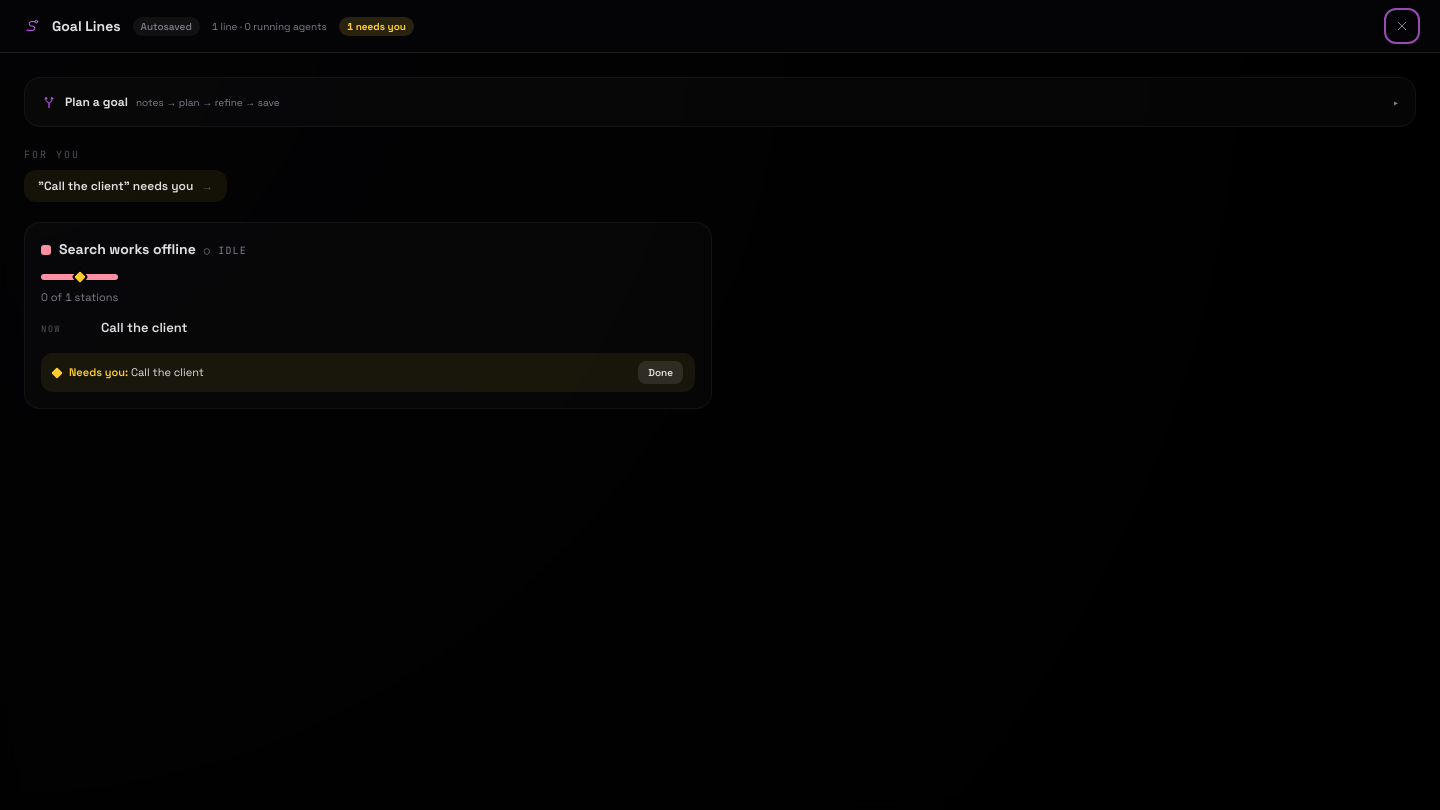
Test: station interactions on the board › keeps imported transcript notes and screenshots inspectable on a station
Click the button that starts with "Search works offline" at (127, 249), box [25,223,711,353]
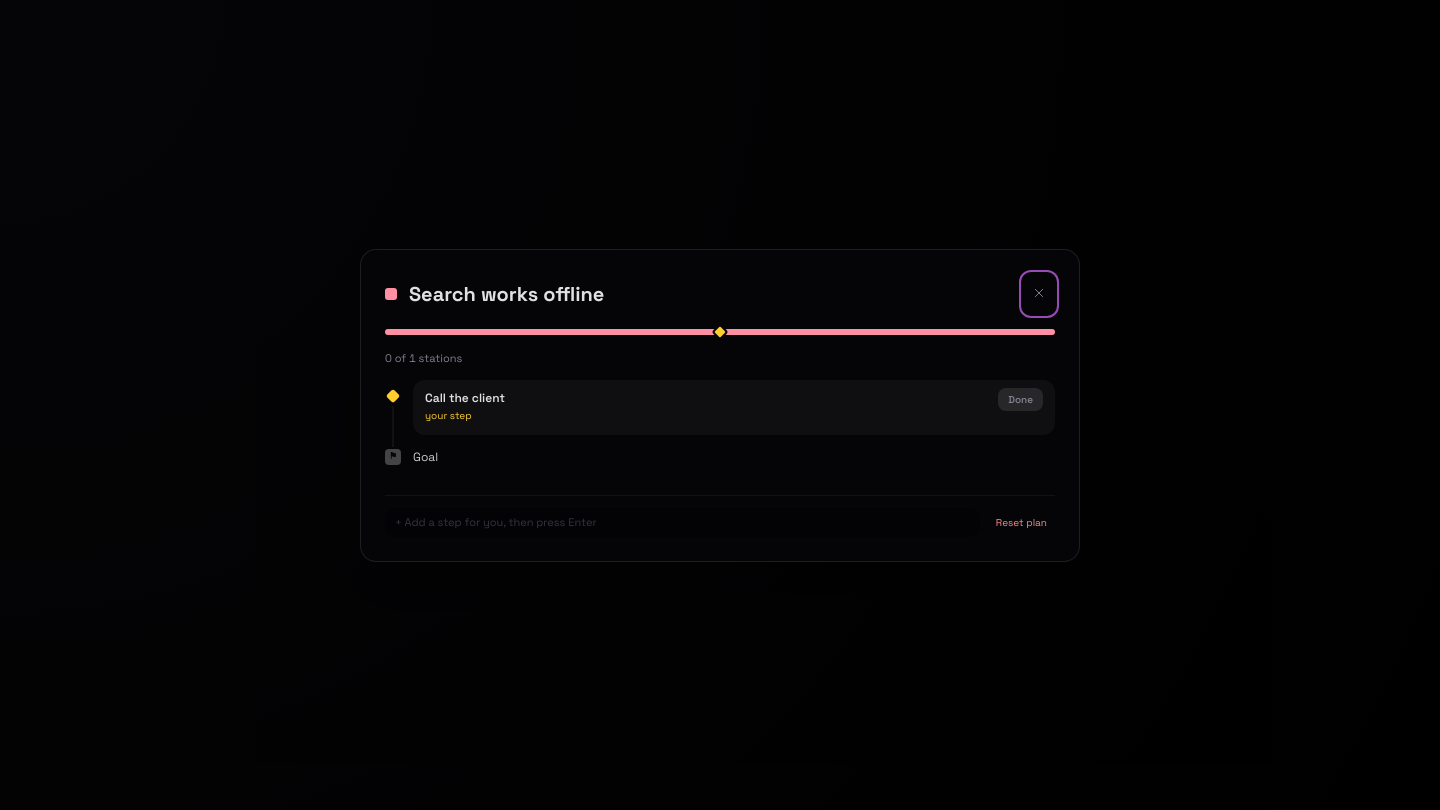
Click the button with test id "station-toggle-sourced-1" at (465, 398), box [425,388,990,423]
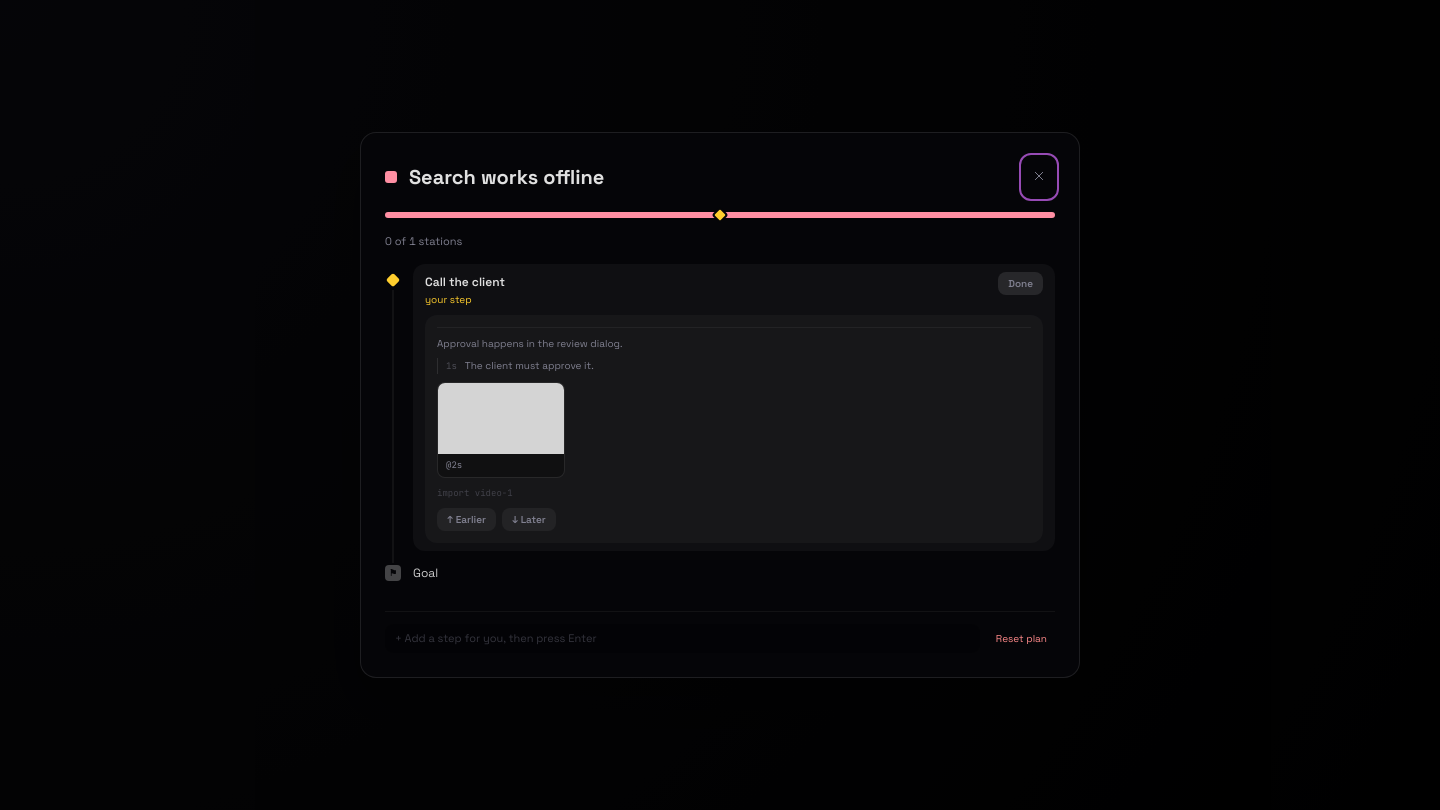
Result: the element with test id "station-source-detail-sourced-1" shows "The client must approve it." at [465,359,594,372]
Result: the element with test id "station-source-detail-sourced-1" shows "Approval happens in the review dialog." at [437,337,622,350]
